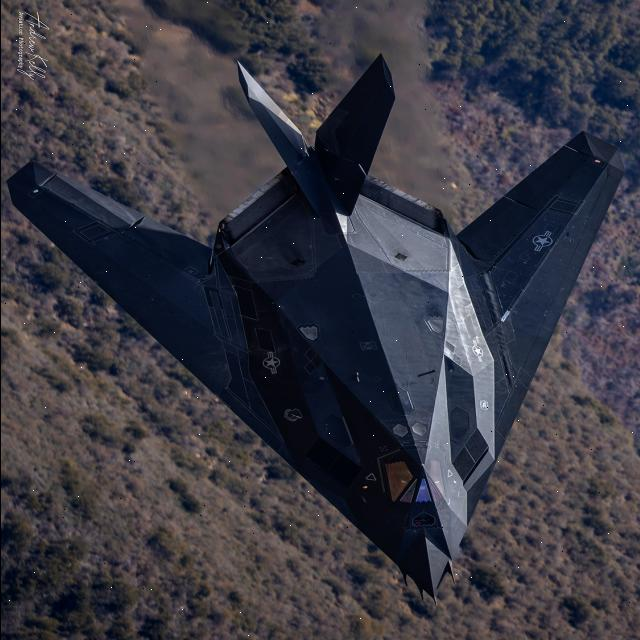F117: (0, 40, 638, 616)
